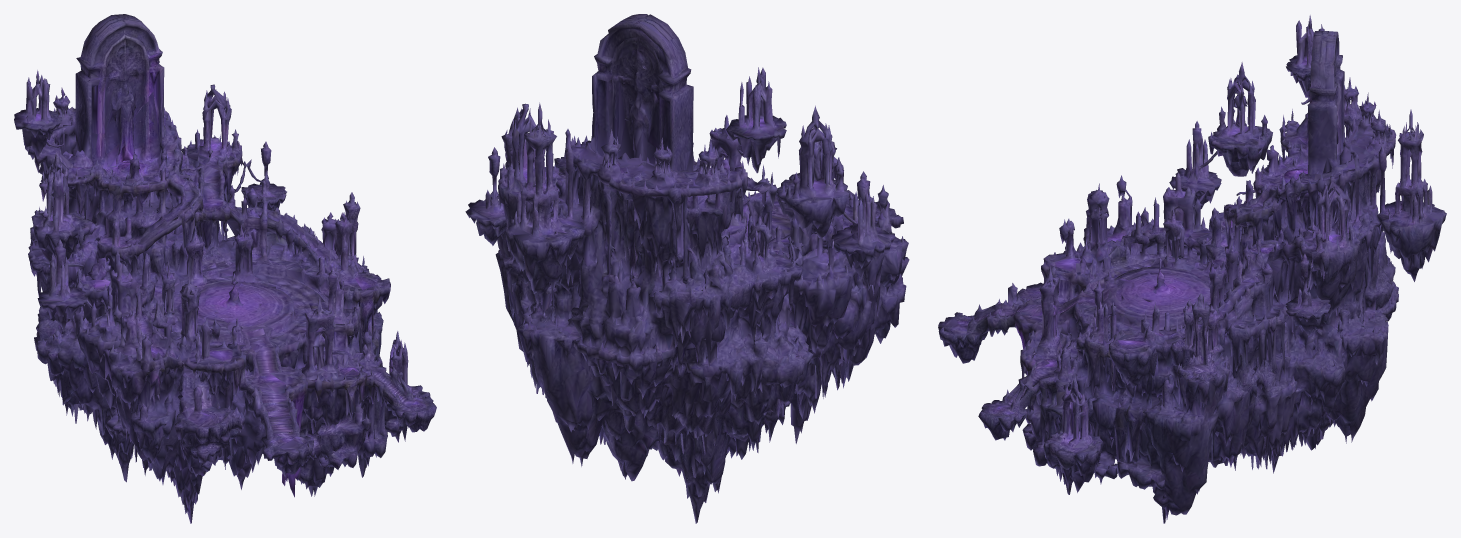
The model's file is Violet_Sanctum_of_the.glb.
3 views of the same model, side by side, from view 1: azimuth 30°, elevation 25°; view 2: azimuth 150°, elevation 25°; view 3: azimuth 270°, elevation 25° (orthographic). The views are drawn at different scales.
Visible parts, largest first — view 1: Violet_Sanctum_of_the; view 2: Violet_Sanctum_of_the; view 3: Violet_Sanctum_of_the.
Part boxes in pixels (box(x1,y1,x2,y2)): Violet_Sanctum_of_the: box(14, 14, 436, 523); Violet_Sanctum_of_the: box(465, 14, 909, 523); Violet_Sanctum_of_the: box(938, 15, 1446, 523).
Bounding box in the file's own units: 1.46 × 1.85 × 1.9.
1 material, 1 textured.
